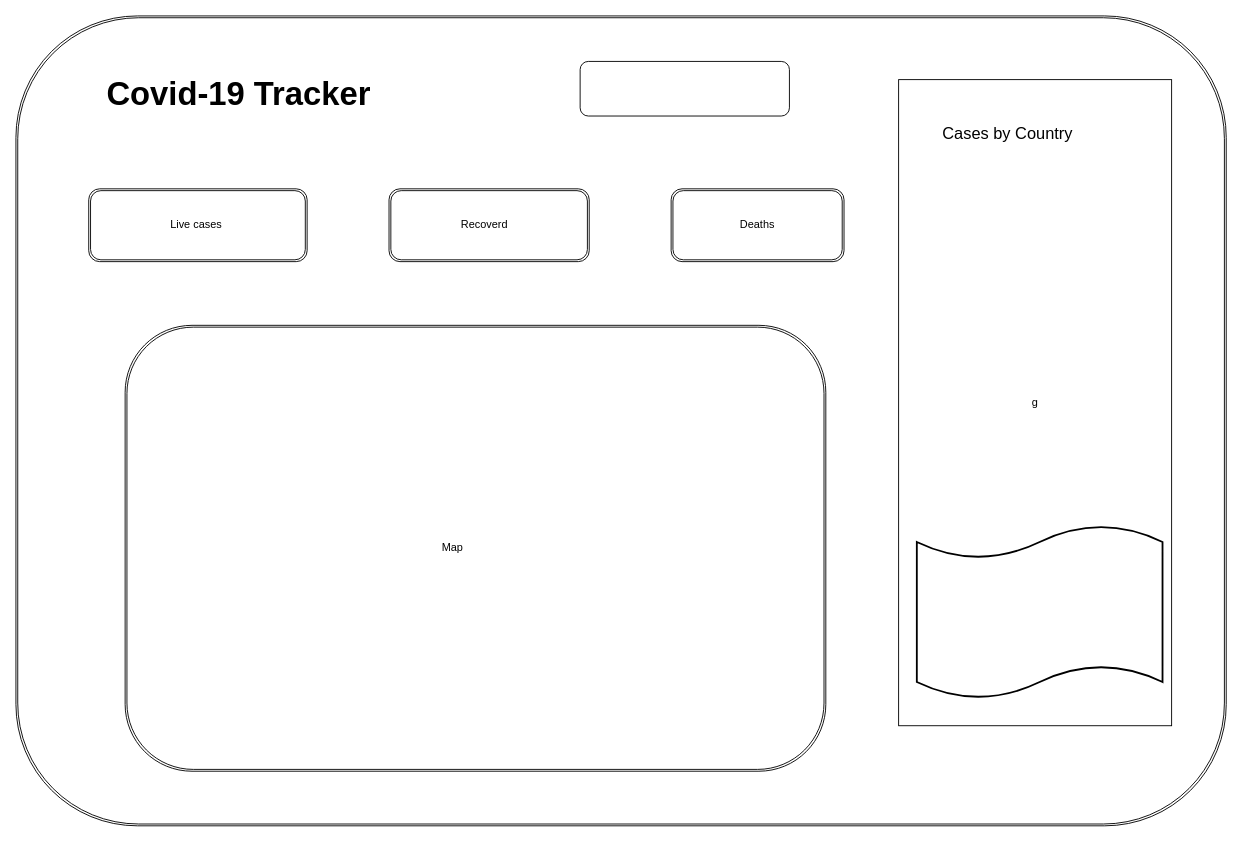
Image size: 1242x842. Some labels were removed from this diagram. Here are the shapes that lost their labels. From the top down, the box of each, then its label:
(579, 61, 789, 116): Worldwide
(915, 524, 1163, 699): Charts
